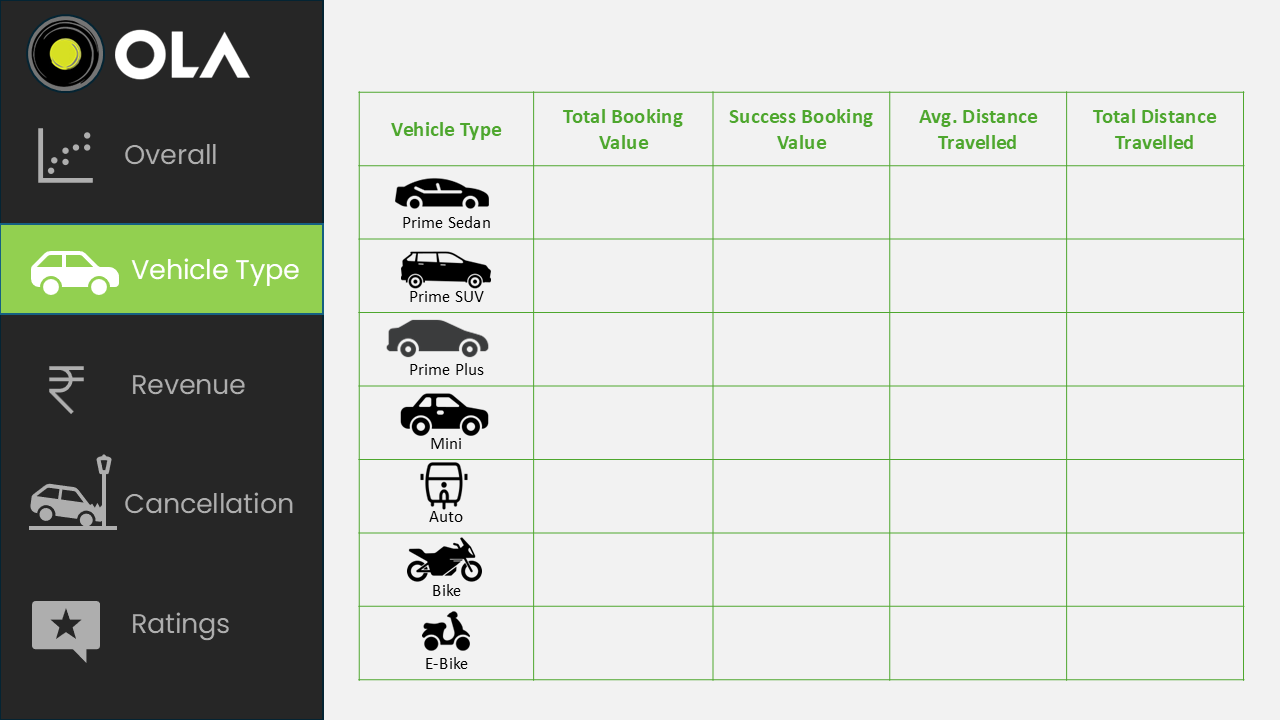

This screenshot's page, from the dashboard's own definition file:
{"tool":"powerbi","page":{"name":"Page 2","canvas":[1280,720],"ordinal":1},"visuals":[{"type":"actionButton","box":[0,219.3,323.1,89.6],"z":0},{"type":"actionButton","box":[0,332.5,323.1,89.6],"z":1000},{"type":"actionButton","box":[0,448,323.1,89.6],"z":2000},{"type":"actionButton","box":[2.4,575.4,323.1,89.6],"z":3000},{"type":"actionButton","box":[0,108.5,323.1,89.6],"z":4000},{"type":"card","fields":{"Values":["Sum(booking.Booking_Value)"]},"box":[540,162.9,165.7,65.7],"z":5000},{"type":"card","fields":{"Values":["Sum(booking.Booking_Value)"]},"box":[540,231.4,165.7,65.7],"z":6000},{"type":"card","fields":{"Values":["Sum(booking.Booking_Value)"]},"box":[540,308.6,165.7,65.7],"z":7000},{"type":"card","fields":{"Values":["Sum(booking.Booking_Value)"]},"box":[540,382.9,165.7,65.7],"z":8000},{"type":"card","fields":{"Values":["Sum(booking.Booking_Value)"]},"box":[540,457.1,165.7,65.7],"z":9000},{"type":"card","fields":{"Values":["Sum(booking.Booking_Value)"]},"box":[540,522.9,165.7,65.7],"z":10000},{"type":"card","fields":{"Values":["Sum(booking.Booking_Value)"]},"box":[540,597.1,165.7,65.7],"z":11000},{"type":"card","fields":{"Values":["Sum(booking.Booking_Value)"]},"box":[705.7,165.7,165.7,65.7],"z":12000},{"type":"card","fields":{"Values":["Sum(booking.Booking_Value)"]},"box":[705.7,234.3,165.7,65.7],"z":13000},{"type":"card","fields":{"Values":["Sum(booking.Booking_Value)"]},"box":[705.7,311.4,165.7,65.7],"z":14000},{"type":"card","fields":{"Values":["Sum(booking.Booking_Value)"]},"box":[705.7,385.7,165.7,65.7],"z":15000},{"type":"card","fields":{"Values":["Sum(booking.Booking_Value)"]},"box":[705.7,460,165.7,65.7],"z":16000},{"type":"card","fields":{"Values":["Sum(booking.Booking_Value)"]},"box":[705.7,525.7,165.7,65.7],"z":17000},{"type":"card","fields":{"Values":["Sum(booking.Booking_Value)"]},"box":[705.7,600,165.7,65.7],"z":18000},{"type":"card","fields":{"Values":["Avg(booking.Ride_Distance)"]},"box":[897.5,160,167.5,67.5],"z":19000},{"type":"card","fields":{"Values":["Avg(booking.Ride_Distance)"]},"box":[897.5,235,167.5,67.5],"z":20000},{"type":"card","fields":{"Values":["Avg(booking.Ride_Distance)"]},"box":[897.5,310,167.5,67.5],"z":21000},{"type":"card","fields":{"Values":["Avg(booking.Ride_Distance)"]},"box":[897.5,385,167.5,67.5],"z":22000},{"type":"card","fields":{"Values":["Avg(booking.Ride_Distance)"]},"box":[897.5,460,167.5,67.5],"z":23000},{"type":"card","fields":{"Values":["Avg(booking.Ride_Distance)"]},"box":[897.5,532.5,167.5,67.5],"z":24000},{"type":"card","fields":{"Values":["Avg(booking.Ride_Distance)"]},"box":[897.5,600,167.5,67.5],"z":25000},{"type":"card","fields":{"Values":["Sum(booking.Ride_Distance)"]},"box":[1065,165,167.5,67.5],"z":26000},{"type":"card","fields":{"Values":["Sum(booking.Ride_Distance)"]},"box":[1065,237.5,167.5,67.5],"z":27000},{"type":"card","fields":{"Values":["Sum(booking.Ride_Distance)"]},"box":[1065,312.5,167.5,67.5],"z":28000},{"type":"card","fields":{"Values":["Sum(booking.Ride_Distance)"]},"box":[1065,387.5,167.5,67.5],"z":29000},{"type":"card","fields":{"Values":["Sum(booking.Ride_Distance)"]},"box":[1065,460,167.5,67.5],"z":30000},{"type":"card","fields":{"Values":["Sum(booking.Ride_Distance)"]},"box":[1065,535,167.5,67.5],"z":31000},{"type":"card","fields":{"Values":["Sum(booking.Ride_Distance)"]},"box":[1065,602.5,167.5,67.5],"z":32000},{"type":"slicer","title":"Date","fields":{"Values":["booking.Date"]},"box":[974,16,260,56],"z":33000}]}

Visuals, with their boxes in screenshot pixels (x1, y1, x2, y2), scaled from the page's 1280x720 canvas onto the 1280x720 screenshot:
actionButton: <region>0, 219, 323, 309</region>
actionButton: <region>0, 332, 323, 422</region>
actionButton: <region>0, 448, 323, 538</region>
actionButton: <region>2, 575, 326, 665</region>
actionButton: <region>0, 108, 323, 198</region>
card - Sum(booking.Booking_Value): <region>540, 163, 706, 229</region>
card - Sum(booking.Booking_Value): <region>540, 231, 706, 297</region>
card - Sum(booking.Booking_Value): <region>540, 309, 706, 374</region>
card - Sum(booking.Booking_Value): <region>540, 383, 706, 449</region>
card - Sum(booking.Booking_Value): <region>540, 457, 706, 523</region>
card - Sum(booking.Booking_Value): <region>540, 523, 706, 589</region>
card - Sum(booking.Booking_Value): <region>540, 597, 706, 663</region>
card - Sum(booking.Booking_Value): <region>706, 166, 871, 231</region>
card - Sum(booking.Booking_Value): <region>706, 234, 871, 300</region>
card - Sum(booking.Booking_Value): <region>706, 311, 871, 377</region>
card - Sum(booking.Booking_Value): <region>706, 386, 871, 451</region>
card - Sum(booking.Booking_Value): <region>706, 460, 871, 526</region>
card - Sum(booking.Booking_Value): <region>706, 526, 871, 591</region>
card - Sum(booking.Booking_Value): <region>706, 600, 871, 666</region>
card - Avg(booking.Ride_Distance): <region>898, 160, 1065, 228</region>
card - Avg(booking.Ride_Distance): <region>898, 235, 1065, 302</region>
card - Avg(booking.Ride_Distance): <region>898, 310, 1065, 378</region>
card - Avg(booking.Ride_Distance): <region>898, 385, 1065, 452</region>
card - Avg(booking.Ride_Distance): <region>898, 460, 1065, 528</region>
card - Avg(booking.Ride_Distance): <region>898, 532, 1065, 600</region>
card - Avg(booking.Ride_Distance): <region>898, 600, 1065, 668</region>
card - Sum(booking.Ride_Distance): <region>1065, 165, 1232, 232</region>
card - Sum(booking.Ride_Distance): <region>1065, 238, 1232, 305</region>
card - Sum(booking.Ride_Distance): <region>1065, 312, 1232, 380</region>
card - Sum(booking.Ride_Distance): <region>1065, 388, 1232, 455</region>
card - Sum(booking.Ride_Distance): <region>1065, 460, 1232, 528</region>
card - Sum(booking.Ride_Distance): <region>1065, 535, 1232, 602</region>
card - Sum(booking.Ride_Distance): <region>1065, 602, 1232, 670</region>
"Date" slicer: <region>974, 16, 1234, 72</region>
